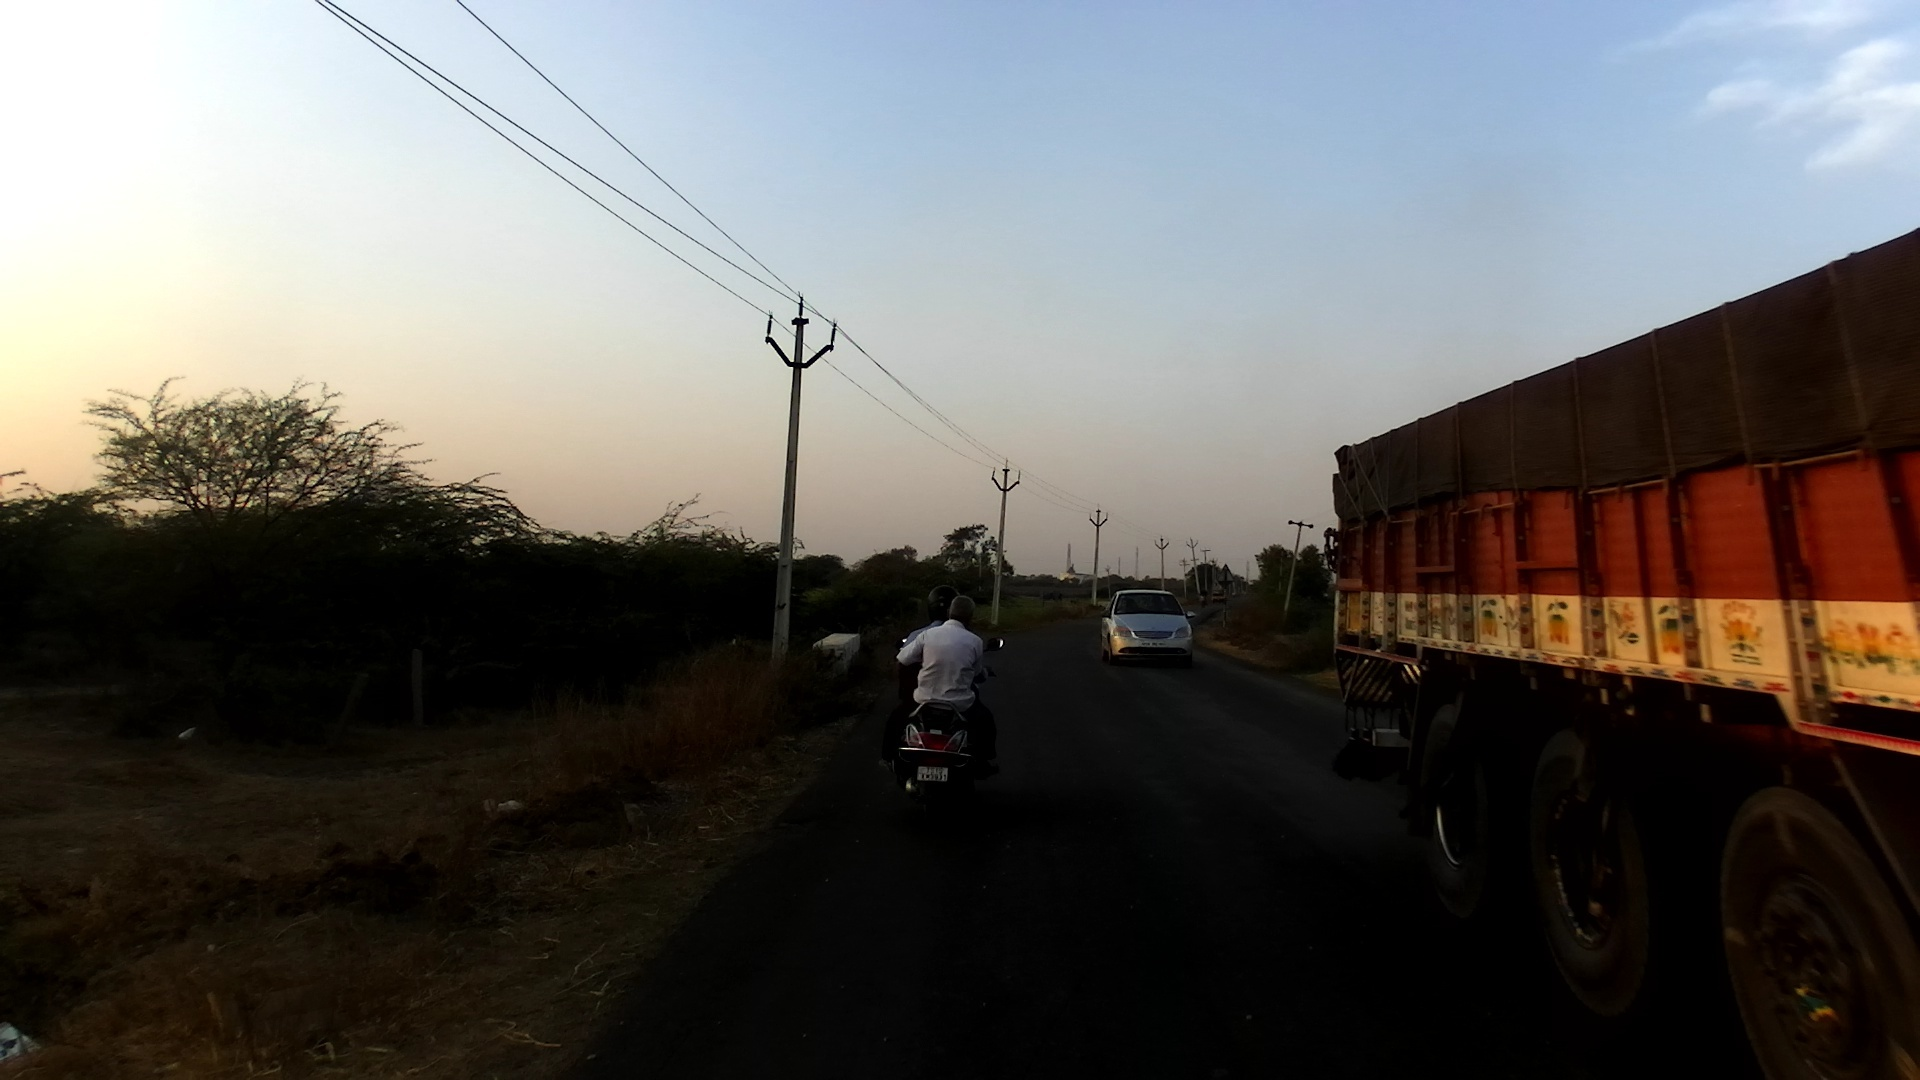car: (1099, 587, 1200, 672)
motorcycle: (879, 635, 1014, 827)
rider: (883, 593, 999, 788), (896, 581, 1001, 748)
truck: (1325, 224, 1920, 1080)
